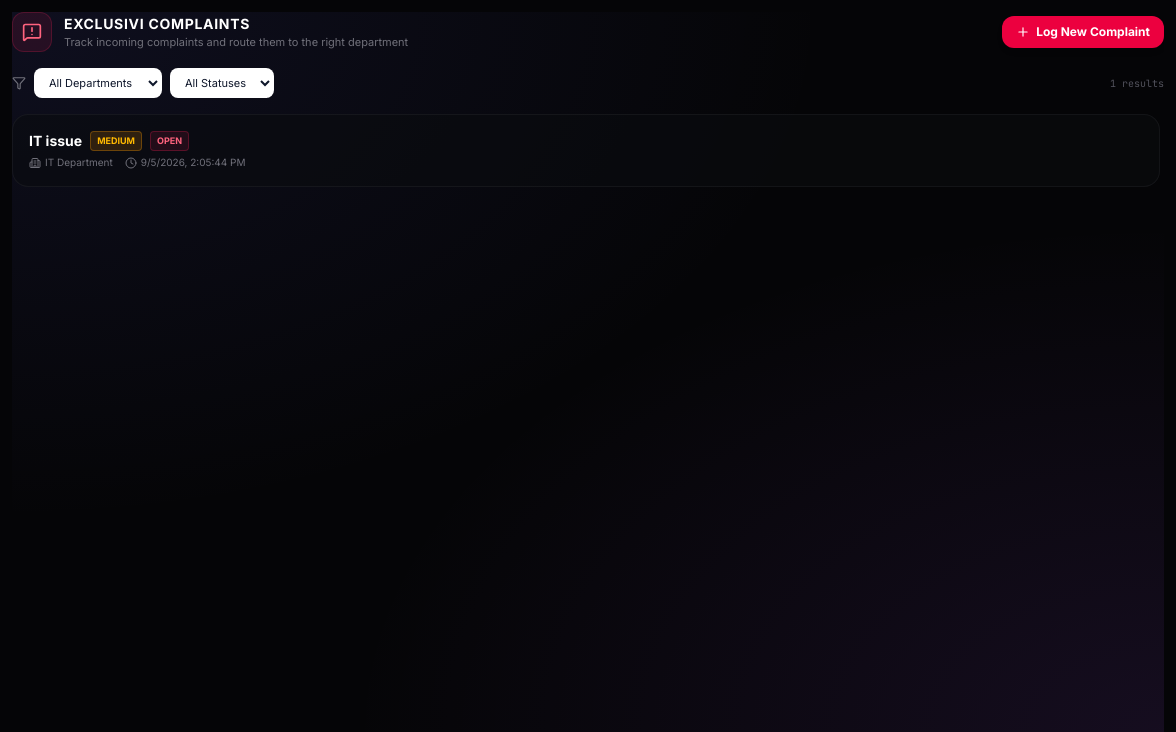
Test: Complaints — visibility › renders the empty state when nothing matches the filters
The image size is (1176, 732).
Select "F&B Department" in the 1st dropdown: (98, 83) [34, 68, 162, 98]
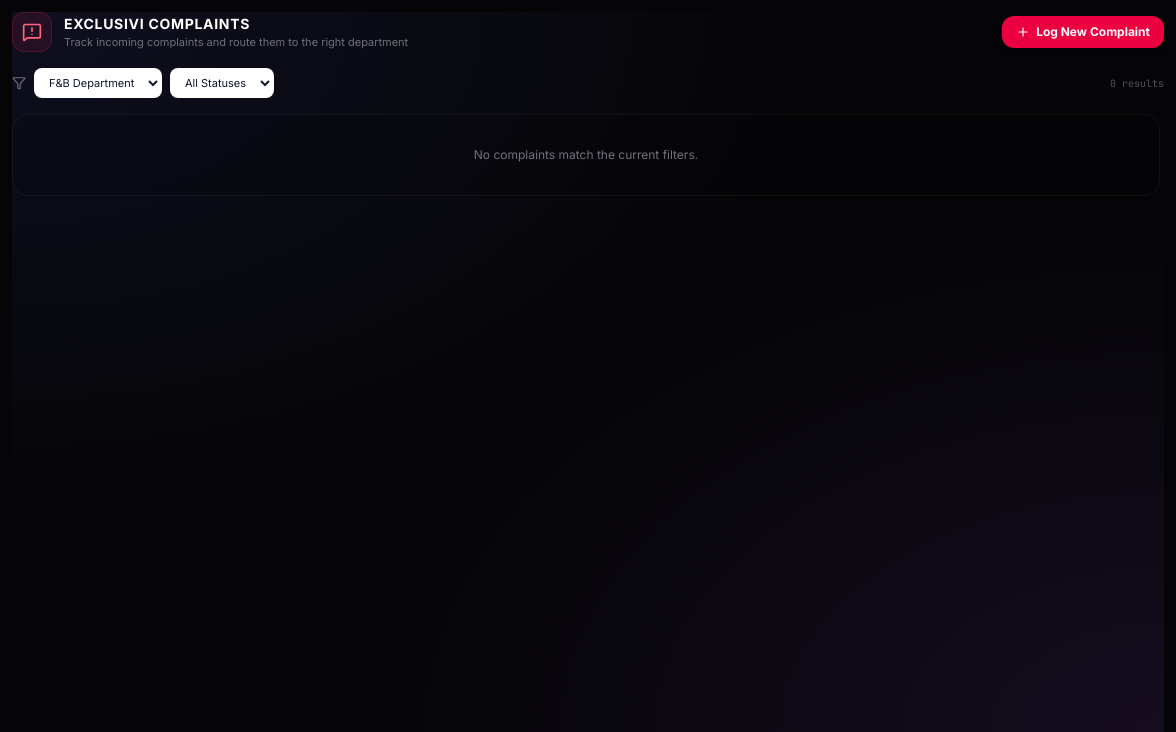
expect the text "No complaints match the current filters." is shown: met, box [12, 114, 1160, 196]
